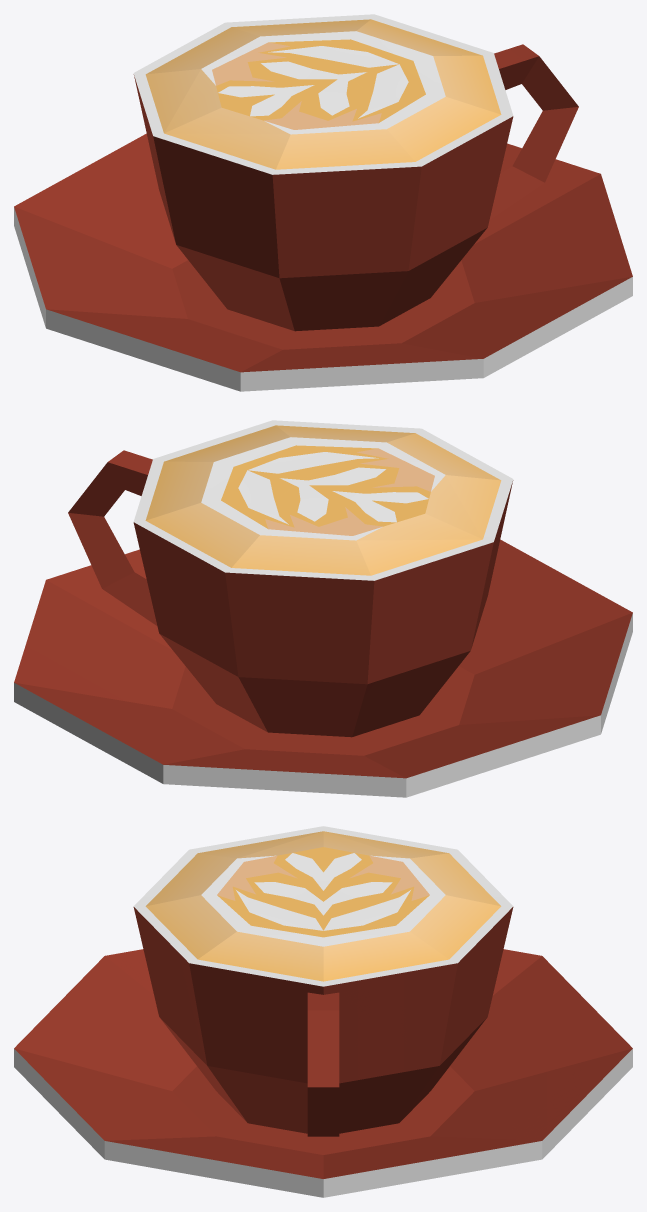
Rendered from coffee_002.obj.
3 views of the same model, one above another, from view 1: azimuth 30°, elevation 25°; view 2: azimuth 150°, elevation 25°; view 3: azimuth 270°, elevation 25° (orthographic). The views are drawn at different scales.
Parts seen in each view (by area): view 1: coffee_002; view 2: coffee_002; view 3: coffee_002.
Boxes of the visible parts, bbox=[...] form: coffee_002: bbox=[14, 14, 632, 391]; coffee_002: bbox=[14, 420, 632, 797]; coffee_002: bbox=[14, 826, 632, 1197].
Bounding box in the file's own units: 0.1553 × 0.0617 × 0.1553.
